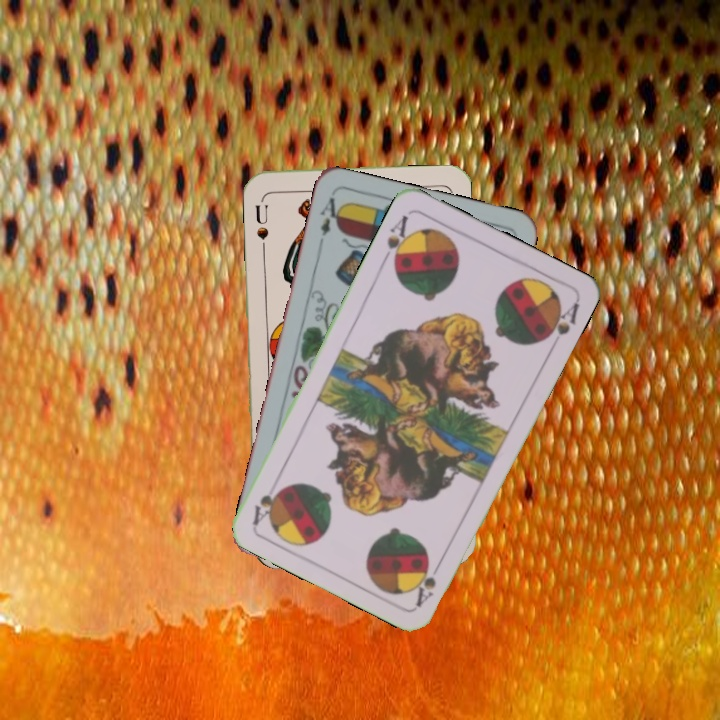EA: (315, 193, 345, 249)
SA: (378, 210, 416, 270), (411, 554, 446, 609)
SU: (251, 193, 271, 253)
